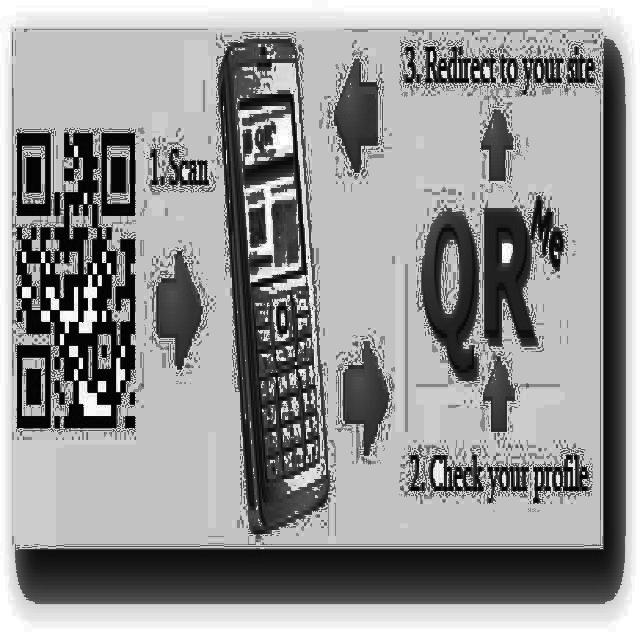qr_code: (18, 134, 134, 424)
